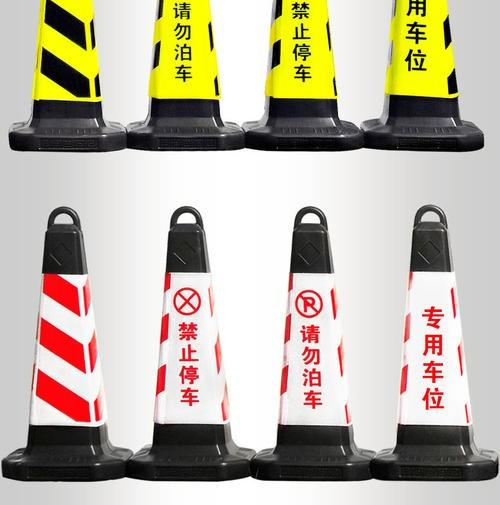cone_barrel: (369, 209, 499, 476), (128, 213, 255, 475), (252, 210, 375, 472), (9, 0, 126, 152), (361, 0, 481, 143), (132, 0, 238, 143), (247, 0, 355, 138)
